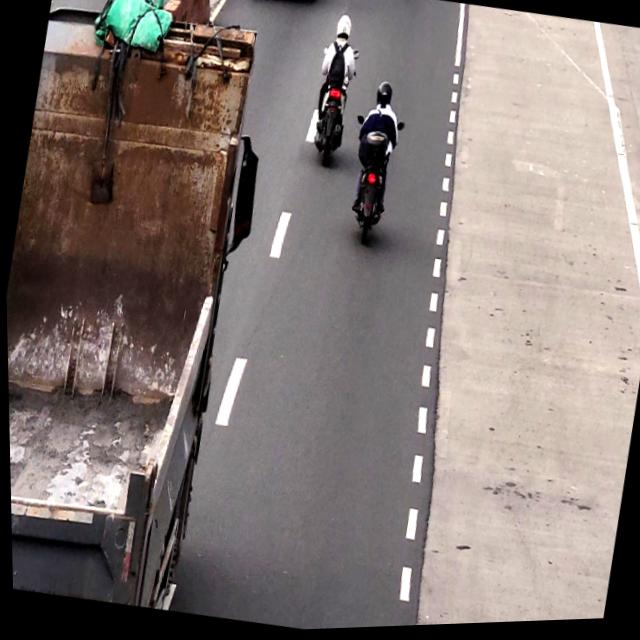Motorcycle: (339, 82, 409, 258), (302, 10, 363, 177)
Truck: (0, 0, 275, 617)
